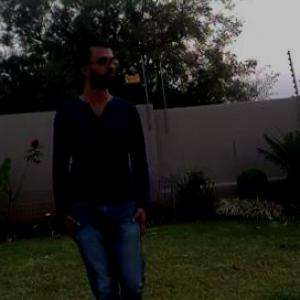follow: (49, 27, 154, 299)
